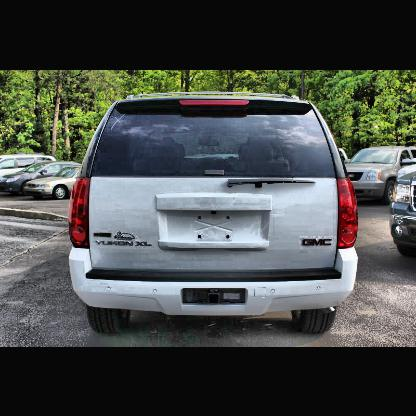GMC Yukon Hybrid SUV 2012: (70, 90, 360, 337)
